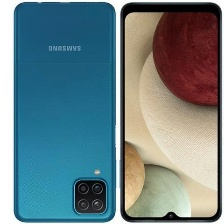phone: (9, 1, 119, 223), (119, 0, 223, 224)
